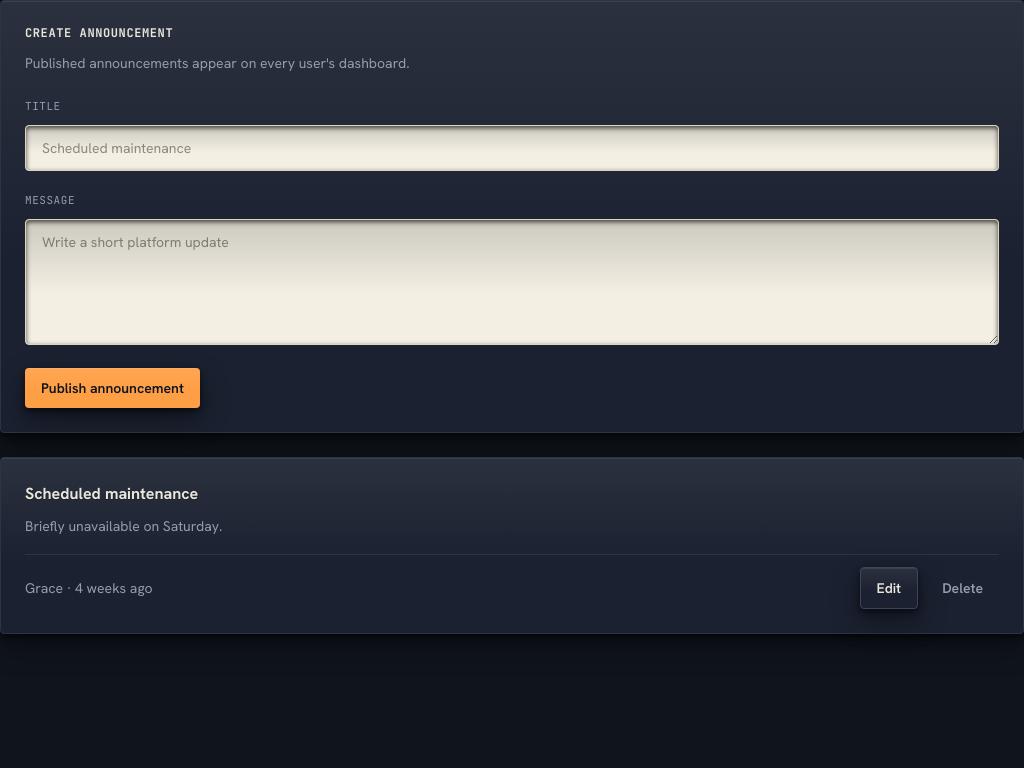
it: AnnouncementPanel › returns to create mode when editing is cancelled
Click the button "Edit" at (889, 588), box 860,567 -> 918,609
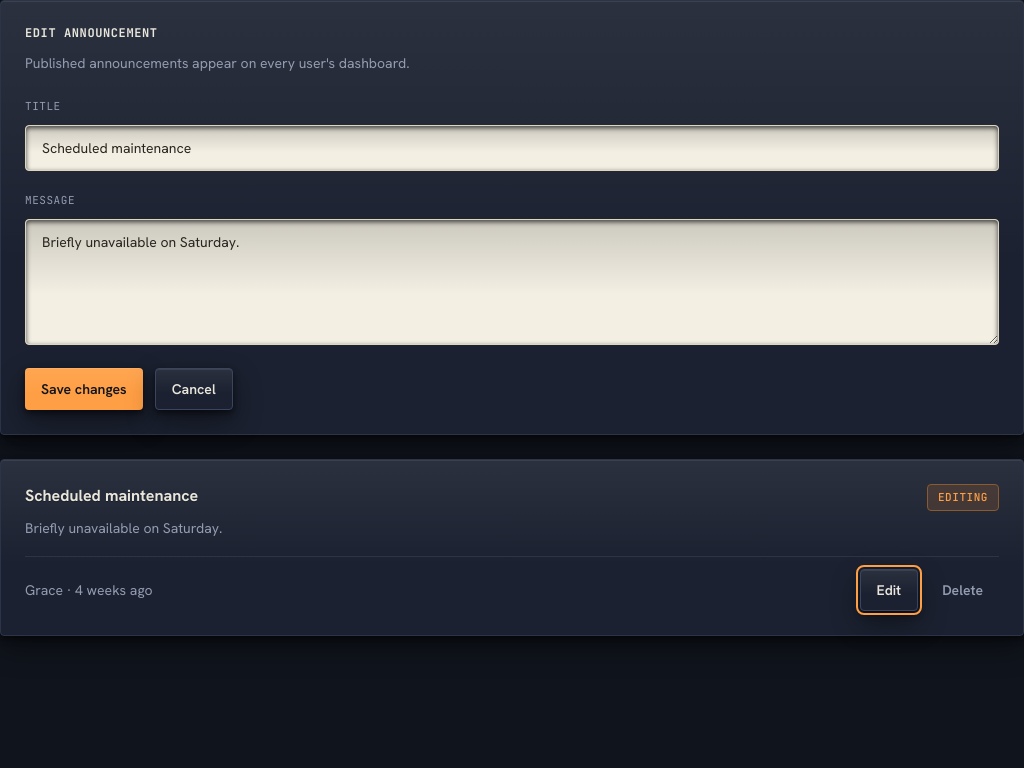
Click the button "Cancel" at (194, 389), box 155,368 -> 233,410
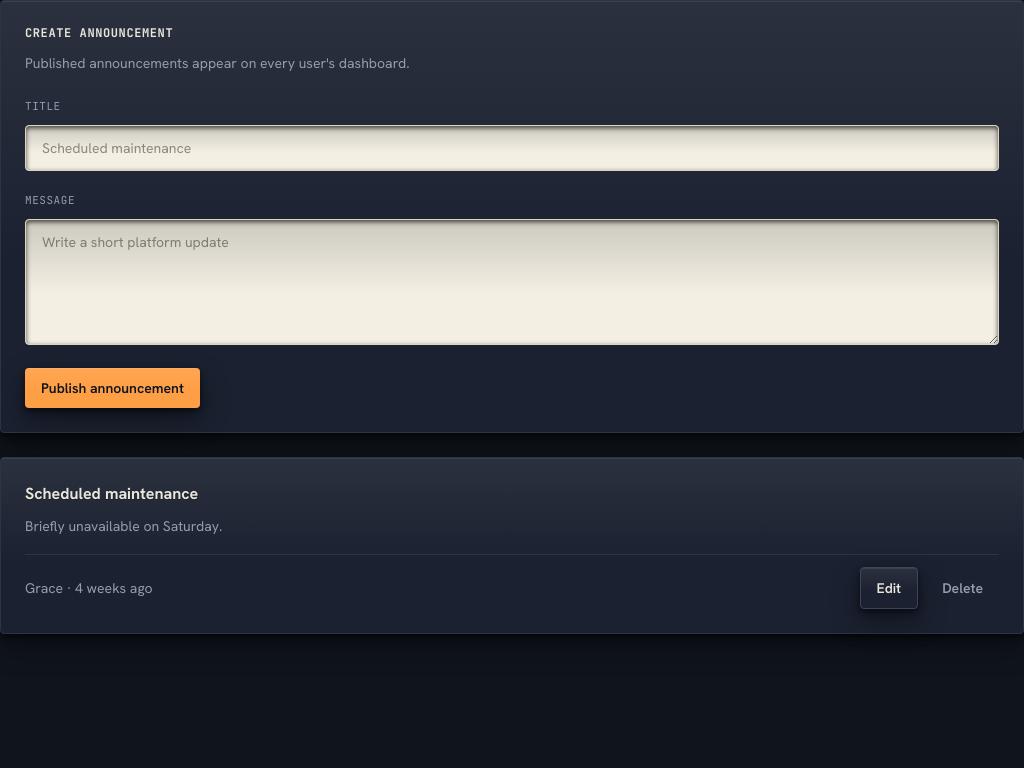
Now the field labelled "Title" is empty, box 25,125 -> 999,171
Now the button "Publish announcement" is shown, box 25,368 -> 200,408
